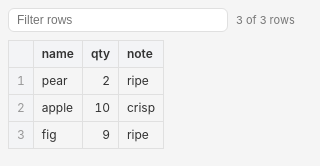
Test: DataTablePreview — filtering › never filters the header row away
The image size is (320, 166).
Type "zzz-no-such-value" into the search field with test id "data-table-filter".
click(118, 20); type("zzz-no-such-value")  # box 8,8 -> 228,32
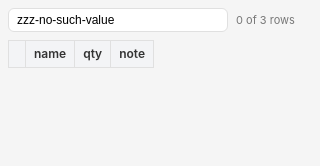
Check: the text with test id "data-table-row-count" shows "0 of 3", box 236,13 -> 295,27
